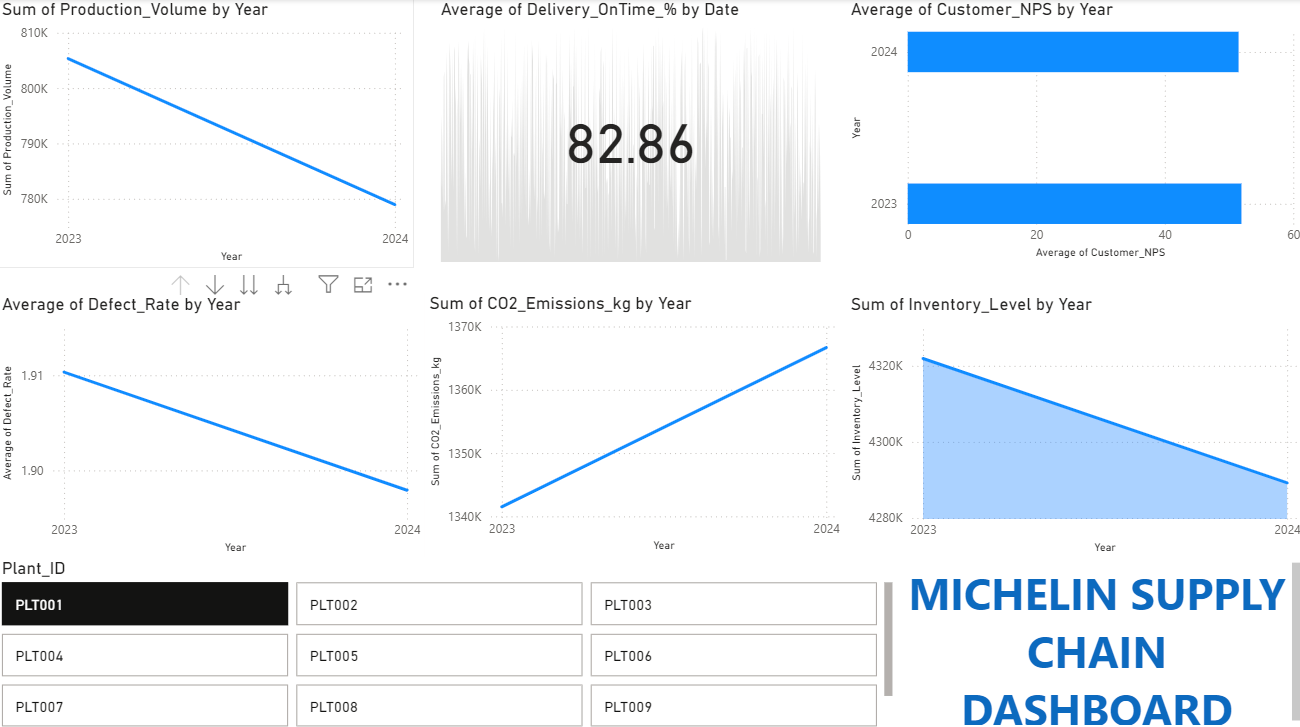

This screenshot's page, from the dashboard's own definition file:
{"tool":"powerbi","page":{"name":"Page 1","canvas":[1280,720],"ordinal":0},"visuals":[{"type":"lineChart","fields":{"Category":["michelin_supply_chain_bigdata.Date.Variation.Date Hierarchy.Year","michelin_supply_chain_bigdata.Date.Variation.Date Hierarchy.Quarter","michelin_supply_chain_bigdata.Date.Variation.Date Hierarchy.Month","michelin_supply_chain_bigdata.Date.Variation.Date Hierarchy.Day"],"Y":["Avg(michelin_supply_chain_bigdata.Defect_Rate)"]},"box":[0,288.1,419.3,259.1],"z":0},{"type":"lineChart","fields":{"Category":["michelin_supply_chain_bigdata.Date.Variation.Date Hierarchy.Year","michelin_supply_chain_bigdata.Date.Variation.Date Hierarchy.Quarter","michelin_supply_chain_bigdata.Date.Variation.Date Hierarchy.Month","michelin_supply_chain_bigdata.Date.Variation.Date Hierarchy.Day"],"Y":["Sum(michelin_supply_chain_bigdata.Production_Volume)"]},"box":[0,0,407.4,262.5],"z":1000},{"type":"lineChart","fields":{"Category":["michelin_supply_chain_bigdata.Date.Variation.Date Hierarchy.Year","michelin_supply_chain_bigdata.Date.Variation.Date Hierarchy.Quarter","michelin_supply_chain_bigdata.Date.Variation.Date Hierarchy.Month","michelin_supply_chain_bigdata.Date.Variation.Date Hierarchy.Day"],"Y":["Sum(michelin_supply_chain_bigdata.CO2_Emissions_kg)"]},"box":[418.8,287.5,411.2,258.8],"z":2000},{"type":"kpi","fields":{"TrendLine":["michelin_supply_chain_bigdata.Date"],"Indicator":["Avg(michelin_supply_chain_bigdata.Delivery_OnTime_%)"]},"box":[429.6,0,381.8,262.5],"z":3000},{"type":"clusteredBarChart","fields":{"Y":["Avg(michelin_supply_chain_bigdata.Customer_NPS)"],"Category":["michelin_supply_chain_bigdata.Date.Variation.Date Hierarchy.Year","michelin_supply_chain_bigdata.Date.Variation.Date Hierarchy.Quarter","michelin_supply_chain_bigdata.Date.Variation.Date Hierarchy.Month","michelin_supply_chain_bigdata.Date.Variation.Date Hierarchy.Day"]},"box":[830.1,0,450,259.1],"z":4000},{"type":"areaChart","fields":{"Y":["Sum(michelin_supply_chain_bigdata.Inventory_Level)"],"Category":["michelin_supply_chain_bigdata.Date.Variation.Date Hierarchy.Year","michelin_supply_chain_bigdata.Date.Variation.Date Hierarchy.Quarter","michelin_supply_chain_bigdata.Date.Variation.Date Hierarchy.Month","michelin_supply_chain_bigdata.Date.Variation.Date Hierarchy.Day"]},"box":[830.1,288.1,450,259.1],"z":5000},{"type":"advancedSlicerVisual","fields":{"Values":["michelin_supply_chain_bigdata.Plant_ID"]},"box":[0,547.2,881.3,172.2],"z":6000},{"type":"textbox","box":[881,547,399,172],"z":7000}]}

Visuals, with their boxes on the page's 1280x720 design canvas (x1, y1, x2, y2). These are canvas units, not pixel positions in the 1300x727 screenshot, which may show the page scaled, cropped or inside an application window:
lineChart - michelin_supply_chain_bigdata.Date.Variation.Date Hierarchy.Year x michelin_supply_chain_bigdata.Date.Variation.Date Hierarchy.Quarter: <region>0, 288, 419, 547</region>
lineChart - michelin_supply_chain_bigdata.Date.Variation.Date Hierarchy.Year x michelin_supply_chain_bigdata.Date.Variation.Date Hierarchy.Quarter: <region>0, 0, 407, 262</region>
lineChart - michelin_supply_chain_bigdata.Date.Variation.Date Hierarchy.Year x michelin_supply_chain_bigdata.Date.Variation.Date Hierarchy.Quarter: <region>419, 288, 830, 546</region>
kpi - michelin_supply_chain_bigdata.Date x Avg(michelin_supply_chain_bigdata.Delivery_OnTime_%): <region>430, 0, 811, 262</region>
clusteredBarChart - Avg(michelin_supply_chain_bigdata.Customer_NPS) x michelin_supply_chain_bigdata.Date.Variation.Date Hierarchy.Year: <region>830, 0, 1280, 259</region>
areaChart - Sum(michelin_supply_chain_bigdata.Inventory_Level) x michelin_supply_chain_bigdata.Date.Variation.Date Hierarchy.Year: <region>830, 288, 1280, 547</region>
advancedSlicerVisual - michelin_supply_chain_bigdata.Plant_ID: <region>0, 547, 881, 719</region>
textbox: <region>881, 547, 1280, 719</region>
